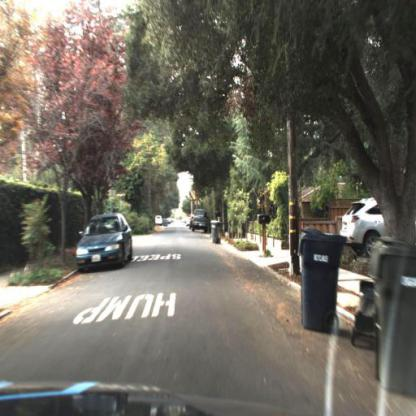car: (73, 209, 133, 273), (328, 194, 397, 244), (338, 193, 387, 250), (189, 207, 210, 232), (155, 213, 165, 227)
